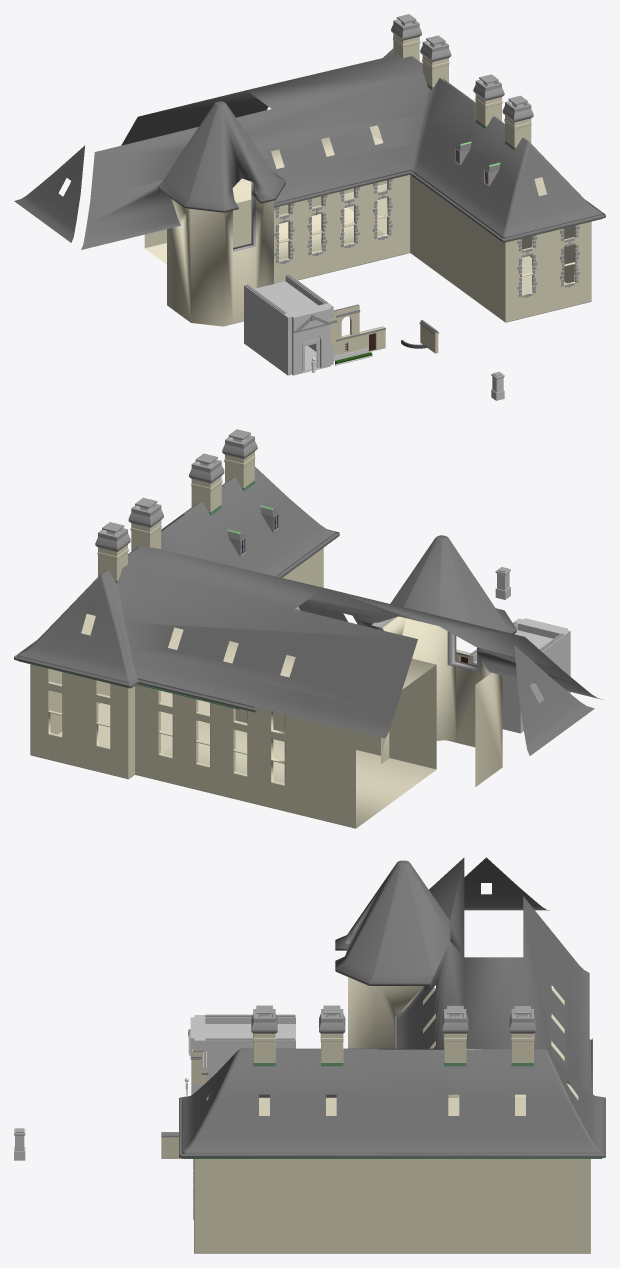
Rendered from mansiontestmodel.fbx.
3 renders of one model, top to bottom at view 1: azimuth 30°, elevation 25°; view 2: azimuth 150°, elevation 25°; view 3: azimuth 270°, elevation 25°, orthographic. The views are drawn at different scales.
Visible parts, largest first — view 1: Cube.027, Cube.002, Cube.008, Cube.017, Cube.014, Cube.019, Cube.018, Cube, Cube.012; view 2: Cube.027, Cube.008, Cube.002, Cube.017, Cube.014, Cube.018, Cube.019; view 3: Cube.027, Cube.002, Cube.008, Cube.017, Cube.014, Cube.019, Cube.018.
Part boxes in pixels (<box>): Cube.027: <box>81,48,605,326</box>; Cube.002: <box>244,274,333,375</box>; Cube.008: <box>14,145,84,242</box>; Cube.017: <box>473,74,504,128</box>; Cube.014: <box>502,95,533,150</box>; Cube.019: <box>420,35,451,89</box>; Cube.018: <box>391,14,421,60</box>; Cube: <box>333,304,360,339</box>; Cube.012: <box>359,326,385,352</box>; Cube.027: <box>14,467,603,828</box>; Cube.008: <box>514,645,594,755</box>; Cube.002: <box>469,618,570,733</box>; Cube.017: <box>189,453,224,515</box>; Cube.014: <box>222,429,257,491</box>; Cube.018: <box>95,522,130,583</box>; Cube.019: <box>128,497,163,551</box>; Cube.027: <box>179,857,605,1253</box>; Cube.002: <box>188,1014,295,1094</box>; Cube.008: <box>464,857,549,910</box>; Cube.017: <box>319,1005,345,1066</box>; Cube.014: <box>251,1005,277,1066</box>; Cube.019: <box>442,1005,468,1066</box>; Cube.018: <box>509,1005,535,1066</box>.
Bounding box in the file's own units: 3935 × 1750 × 4040.
